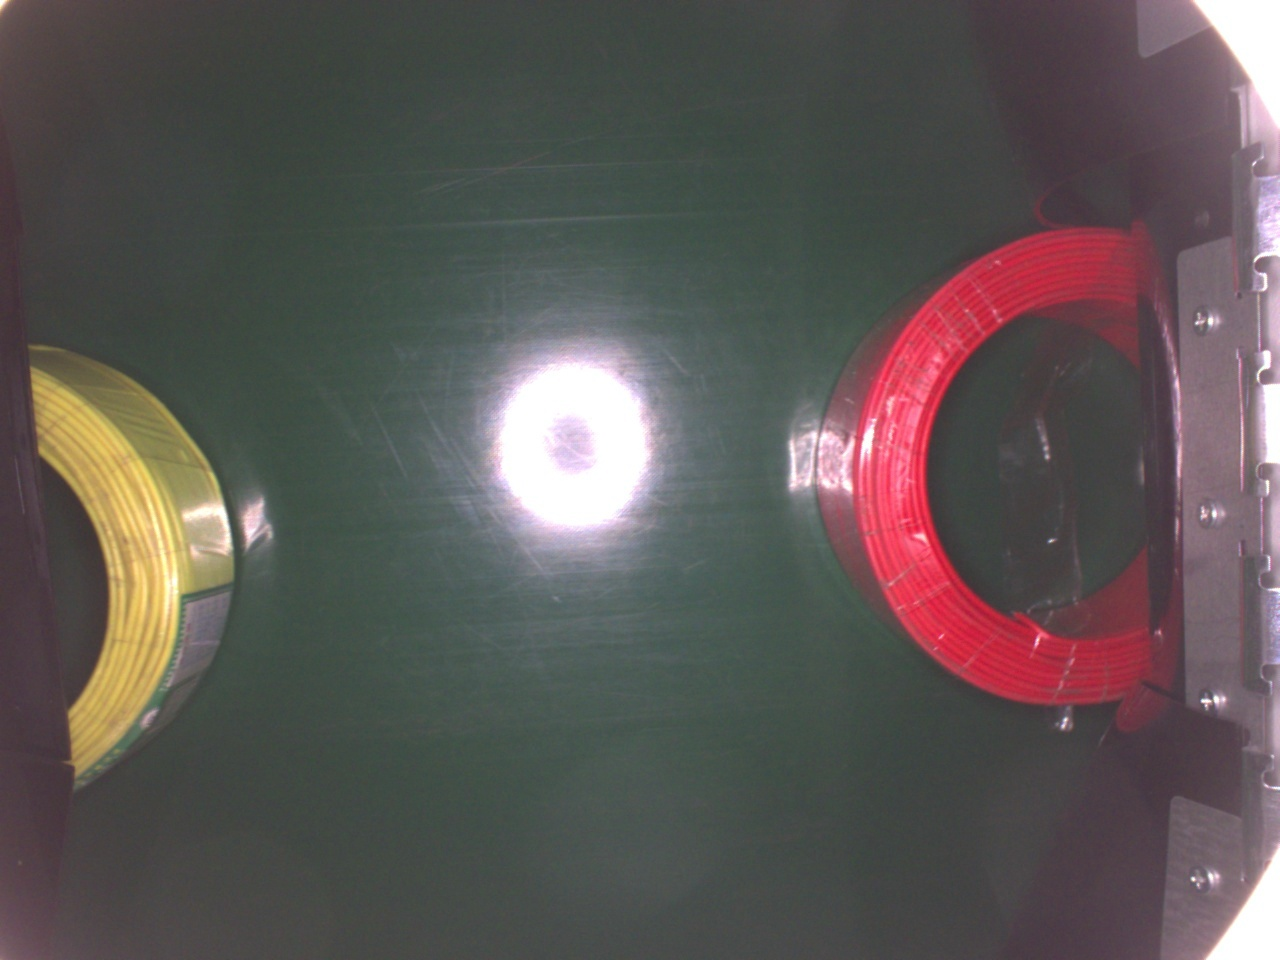red: (820, 216, 1155, 706)
yellow: (28, 335, 237, 787)
